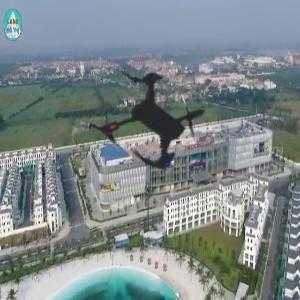drone: (40, 1, 272, 233)
